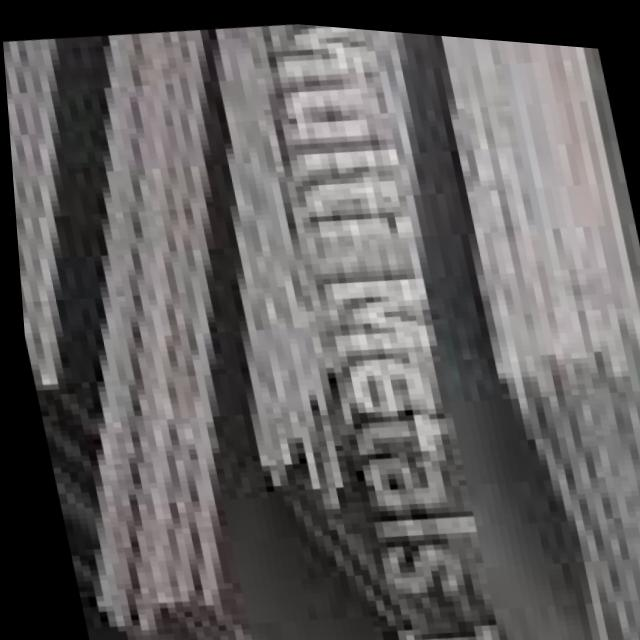metal-plates: (3, 20, 640, 640)
